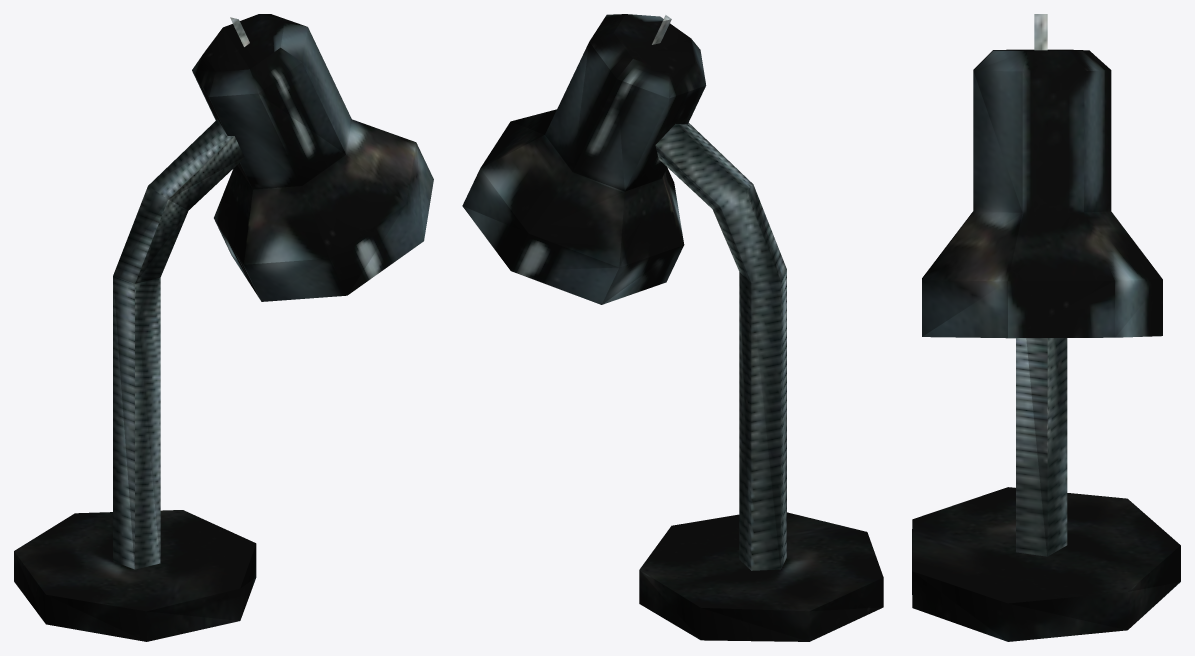
The model's file is abajur.glb.
The picture shows the model from 3 angles, left to right: view 1: azimuth 30°, elevation 25°; view 2: azimuth 150°, elevation 25°; view 3: azimuth 270°, elevation 25°; orthographic projection. The views are drawn at different scales.
Parts seen in each view (by area): view 1: abajur; view 2: abajur; view 3: abajur.
Boxes of the visible parts, x1=… form: abajur: x1=14, y1=14, x2=433, y2=641; abajur: x1=462, y1=14, x2=883, y2=641; abajur: x1=912, y1=14, x2=1180, y2=641.
Size of the model in its own units: 0.4752 by 0.6448 by 0.2515.
Materials: 1 (1 with a texture image).
